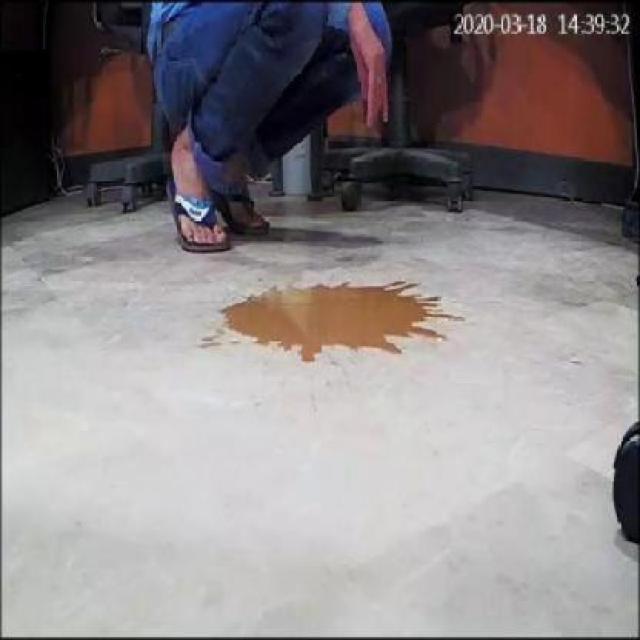spillage: (225, 287, 439, 364)
